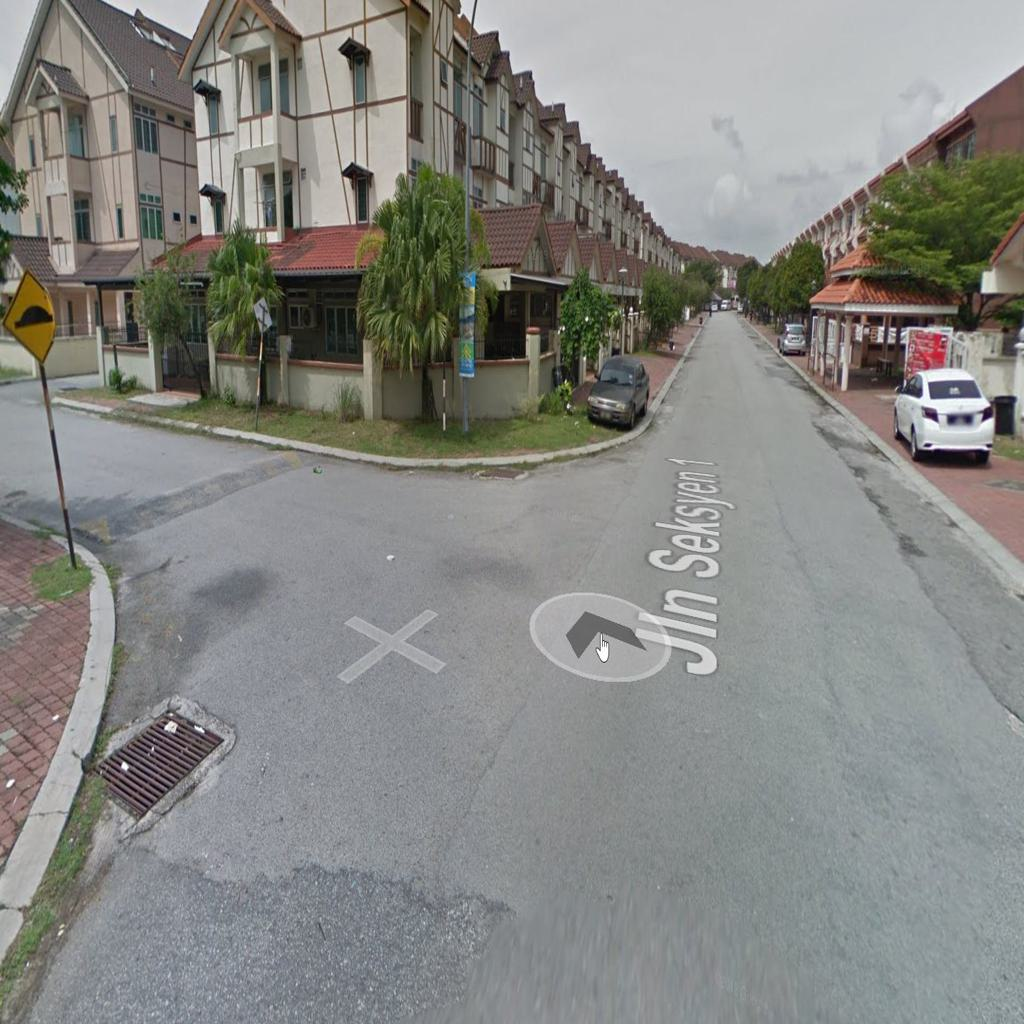Junction: (9, 380, 640, 780)
